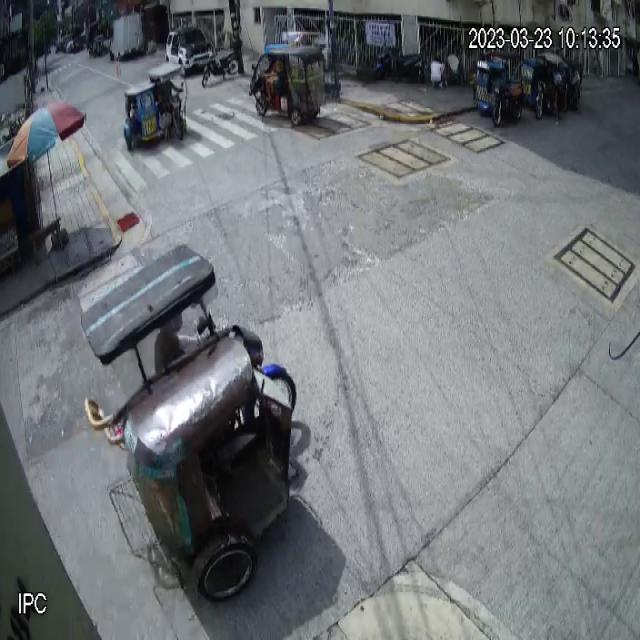Tricycle: (81, 244, 298, 604), (124, 62, 188, 151), (475, 51, 524, 127)
